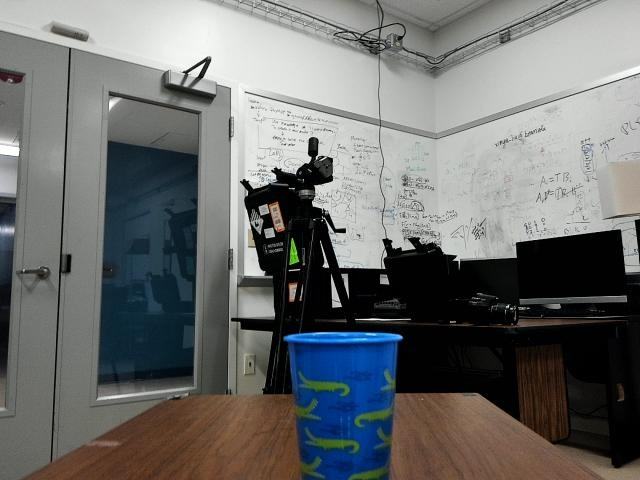water_cup: (279, 325, 410, 480)
